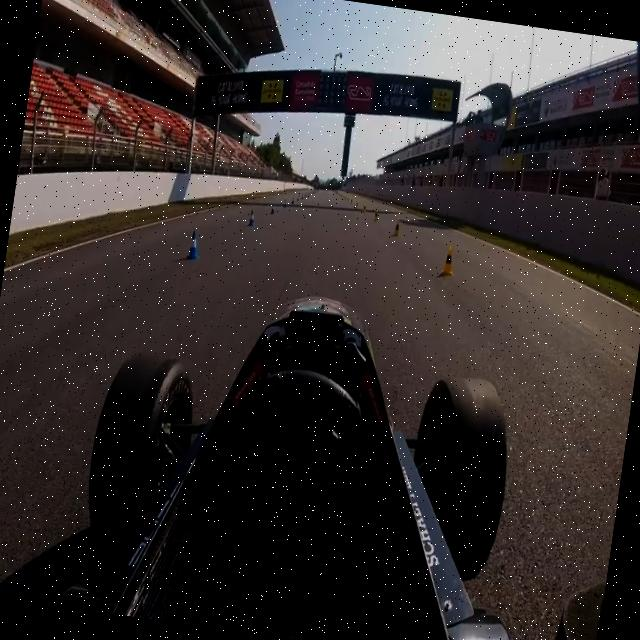blue_cone: (186, 230, 201, 264), (247, 209, 257, 228), (270, 204, 276, 216), (283, 198, 287, 208)
yellow_cone: (440, 246, 458, 278), (393, 221, 403, 238), (373, 209, 380, 223), (362, 204, 367, 214)
